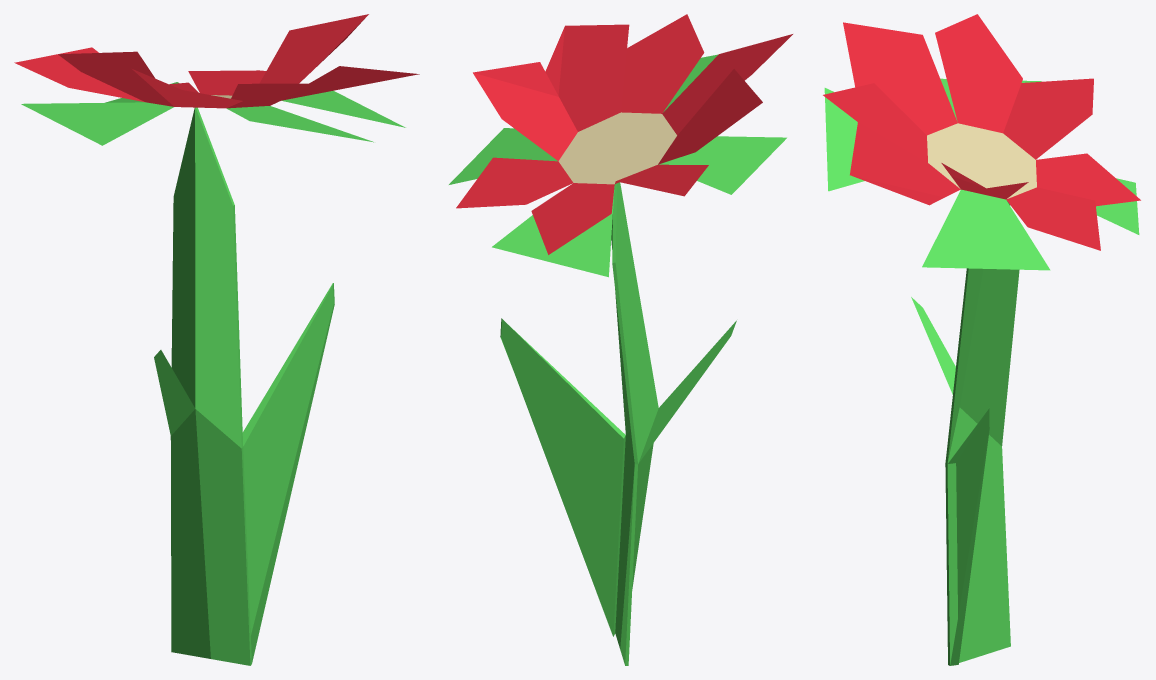
Rendered from Flower3.fbx.
The picture shows the model from 3 angles, left to right: view 1: azimuth 30°, elevation 25°; view 2: azimuth 150°, elevation 25°; view 3: azimuth 270°, elevation 25°; orthographic projection. The views are drawn at different scales.
Visible parts, largest first — view 1: Plane.042, Circle.004; view 2: Circle.004, Plane.042; view 3: Circle.004, Plane.042.
Part boxes in pixels (<box>): Plane.042: <box>154,107,334,665</box>; Circle.004: <box>14,14,419,145</box>; Circle.004: <box>449,14,792,277</box>; Plane.042: <box>500,182,736,665</box>; Circle.004: <box>823,14,1140,270</box>; Plane.042: <box>911,201,1019,665</box>.
Size of the model in its own units: 67.07 by 131 by 65.01.
